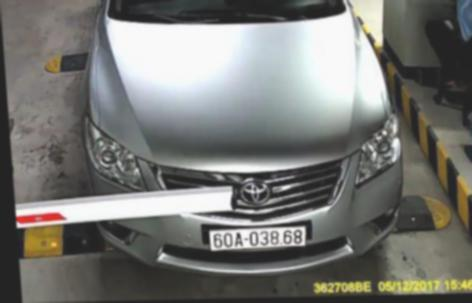License_Plate: (205, 220, 313, 256)
